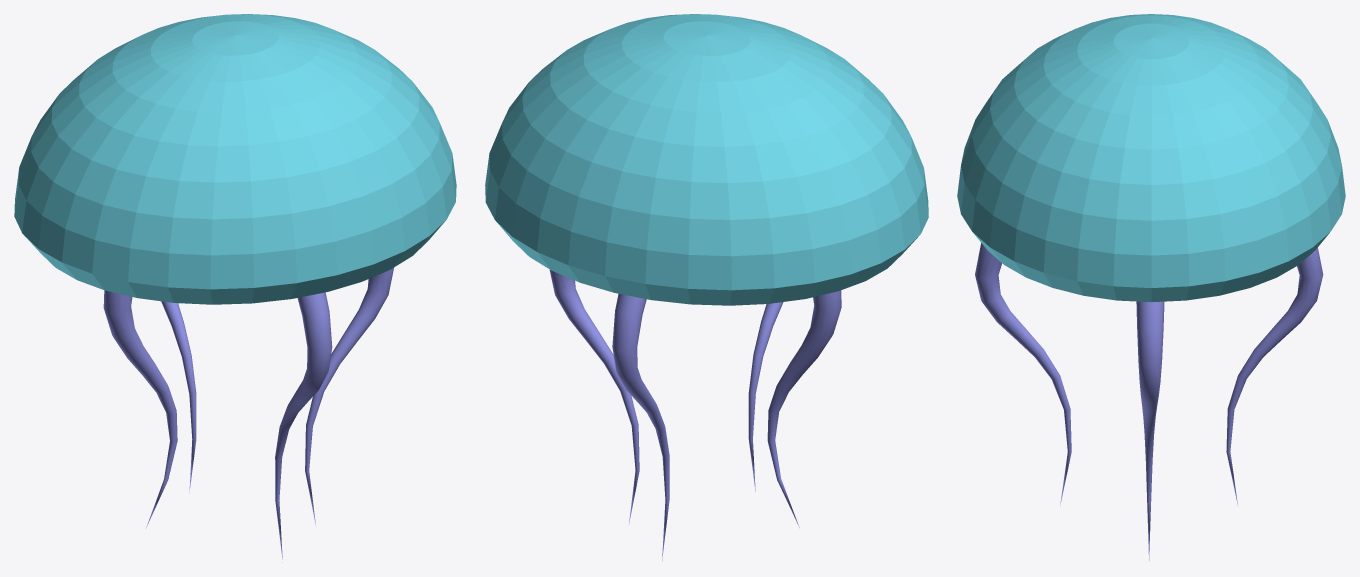
File: MedusaLuna.fbx
3 views of the same model, side by side, from view 1: azimuth 30°, elevation 25°; view 2: azimuth 150°, elevation 25°; view 3: azimuth 270°, elevation 25° (orthographic). The views are drawn at different scales.
Parts seen in each view (by area): view 1: MedusaConpleta; view 2: MedusaConpleta; view 3: MedusaConpleta.
Part boxes in pixels (x1,y1,x2,y2): MedusaConpleta: [14, 14, 456, 562]; MedusaConpleta: [485, 14, 928, 560]; MedusaConpleta: [957, 14, 1345, 560].
Bounding box in the file's own units: 300 × 371 × 268.
